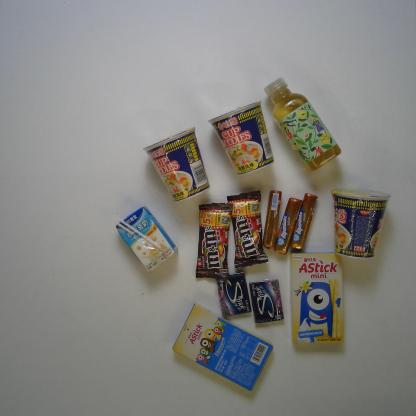Candy: (272, 196, 304, 256), (290, 191, 319, 251), (262, 189, 283, 250)
Chocolate: (226, 189, 269, 270), (195, 202, 234, 282)
Dessert: (170, 301, 276, 394), (289, 250, 346, 346)
Drink: (262, 75, 342, 174)
Gum: (249, 277, 286, 325), (216, 270, 252, 318)
Instant Noodles: (141, 125, 211, 205), (207, 100, 275, 178), (329, 186, 393, 262)
Milk: (114, 205, 180, 278)
